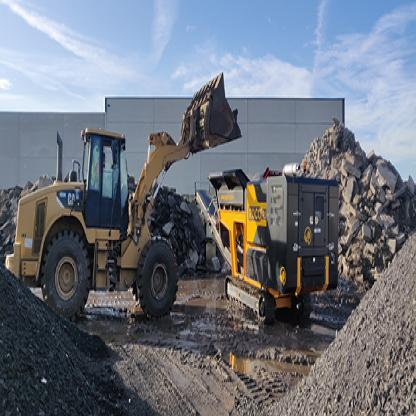bull_dozer/loader/grader: (10, 75, 238, 320)
